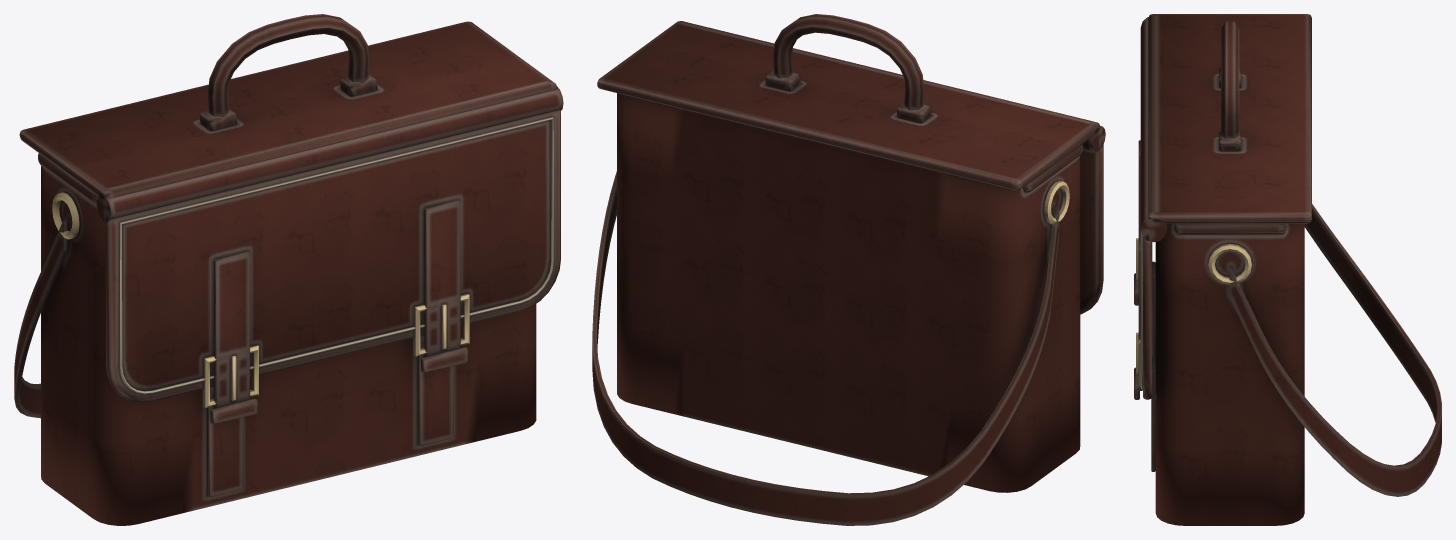
Rendered from Satchel.fbx.
3 renders of one model, left to right at view 1: azimuth 30°, elevation 25°; view 2: azimuth 150°, elevation 25°; view 3: azimuth 270°, elevation 25°, orthographic. The views are drawn at different scales.
Visible parts, largest first — view 1: Satchel; view 2: Satchel; view 3: Satchel.
Boxes of the visible parts, bbox=[...] form: Satchel: bbox=[14, 14, 563, 525]; Satchel: bbox=[592, 14, 1105, 525]; Satchel: bbox=[1134, 14, 1441, 525].
Size of the model in its own units: 133 by 119 by 82.65.
